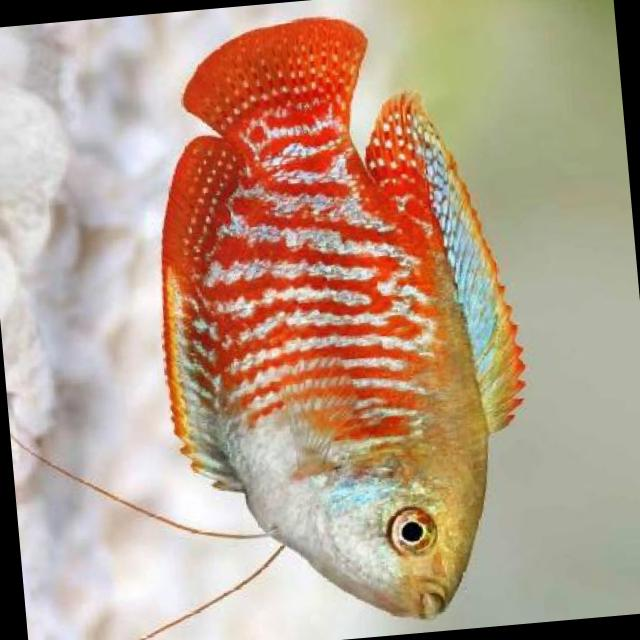Gourami: (135, 2, 549, 640)
